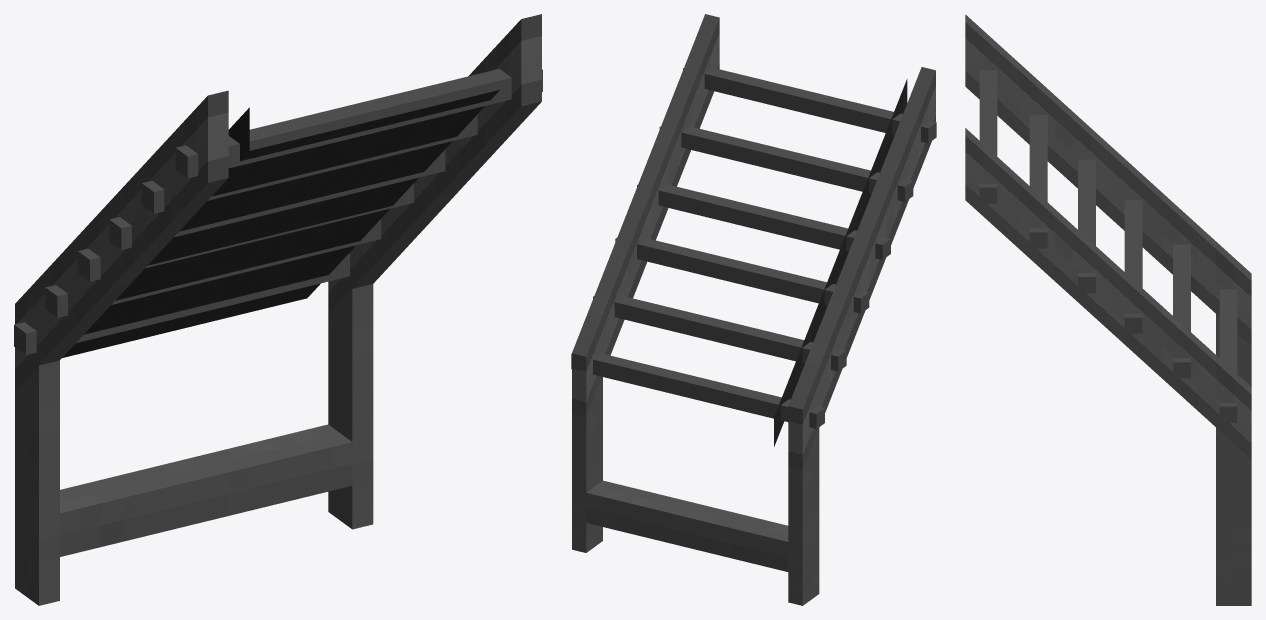
File: conveyor_belt_down_base.gltf
3 renders of one model, left to right at view 1: azimuth 30°, elevation 25°; view 2: azimuth 150°, elevation 25°; view 3: azimuth 270°, elevation 25°, orthographic. The views are drawn at different scales.
Visible parts, largest first — view 1: Group 22, support5, Shape3, Shape6, support4, support2, Shape10, Shape20, Shape17, Shape19, Shape16, Shape18; view 2: Shape3, Shape6, support5, Shape18, Shape20, Shape16, Shape19, Shape17, Shape10, support4, support2, Group 22; view 3: Shape6, Shape3, support2, Shape18, Shape16, Shape10, Shape20, Shape19, Shape17, support4.
Boxes of the visible parts, x1,y1,x2,y2 form: Group 22: (62, 90, 499, 357); support5: (60, 424, 352, 556); Shape3: (15, 90, 228, 390); Shape6: (328, 14, 541, 314); support4: (15, 360, 59, 605); support2: (328, 284, 373, 529); Shape10: (175, 69, 542, 178); Shape20: (14, 254, 349, 355); Shape17: (109, 149, 445, 249); Shape19: (45, 219, 381, 317); Shape16: (142, 114, 477, 213); Shape18: (78, 183, 413, 281); Shape3: (788, 67, 935, 469); Shape6: (572, 14, 719, 416); support5: (586, 480, 788, 571); Shape18: (615, 238, 869, 313); Shape20: (571, 353, 824, 428); Shape16: (659, 126, 913, 201); Shape19: (593, 296, 846, 371); Shape17: (637, 184, 890, 259); Shape10: (683, 68, 936, 143); support4: (788, 428, 819, 605); support2: (572, 377, 602, 552); Group 22: (774, 79, 907, 446); Shape6: (965, 128, 1251, 459); Shape3: (965, 14, 1251, 345); support2: (1216, 428, 1251, 605); Shape18: (1124, 200, 1142, 333); Shape16: (1029, 115, 1047, 248); Shape10: (979, 70, 997, 203); Shape20: (1219, 289, 1237, 422); Shape19: (1173, 244, 1190, 378); Shape17: (1078, 159, 1095, 293); support4: (1216, 314, 1251, 386).
Size of the model in its own units: 1.06 by 1.81 by 1.
